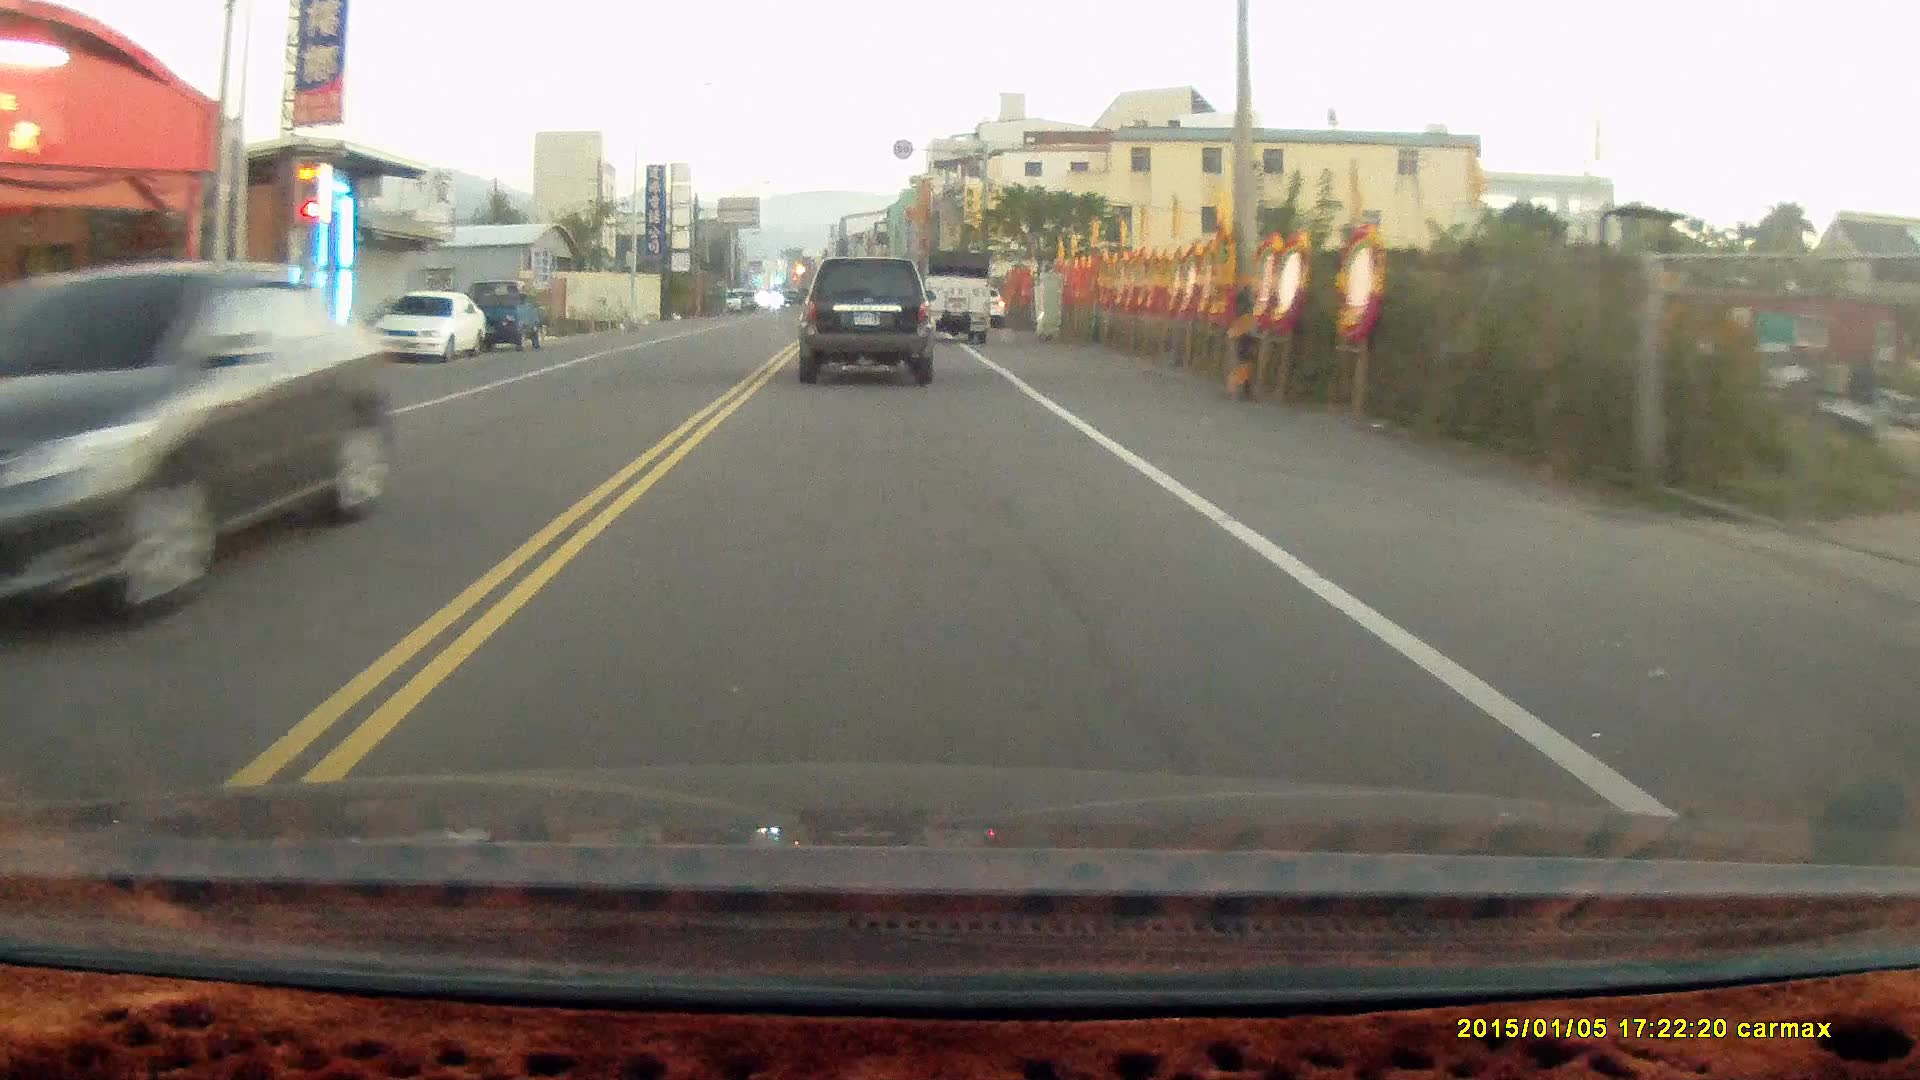vehicle: (1, 262, 411, 644), (800, 255, 939, 386), (371, 287, 489, 363), (924, 251, 997, 345), (464, 277, 554, 353)
